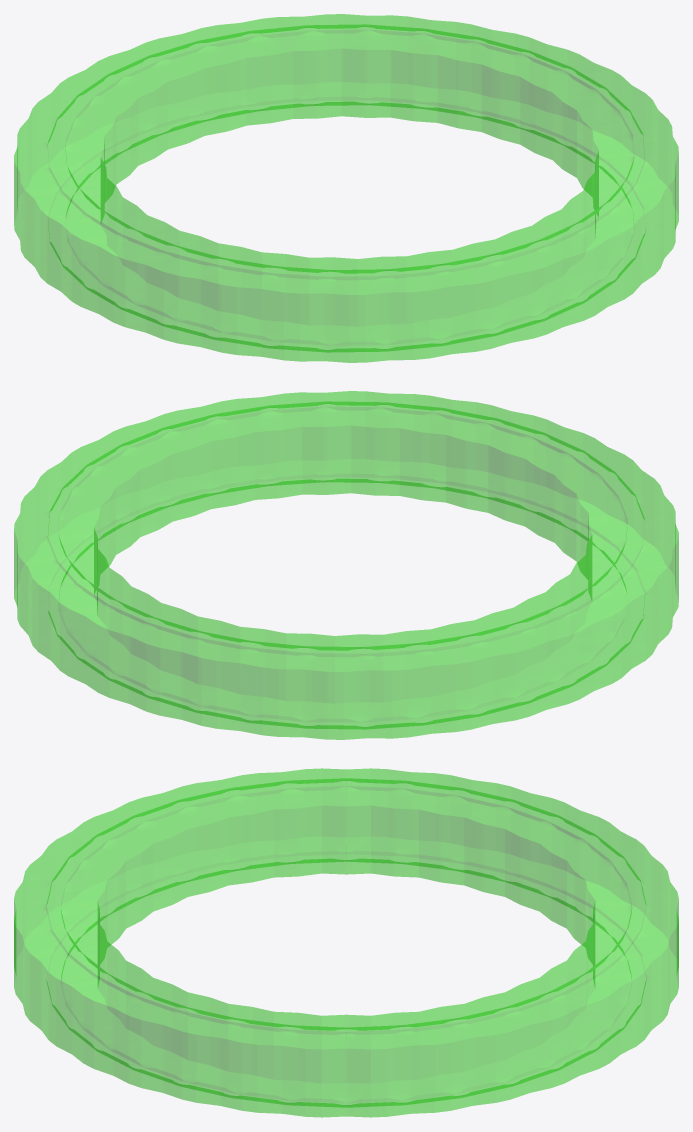
The model's file is Striker2.glb.
3 renders of one model, top to bottom at view 1: azimuth 30°, elevation 25°; view 2: azimuth 150°, elevation 25°; view 3: azimuth 270°, elevation 25°, orthographic.
Visible parts, largest first — view 1: Cylinder; view 2: Cylinder; view 3: Cylinder.
Boxes of the visible parts, bbox=[...] form: Cylinder: bbox=[14, 14, 678, 362]; Cylinder: bbox=[14, 391, 678, 739]; Cylinder: bbox=[14, 768, 678, 1117].
Bounding box in the file's own units: 1.99 × 0.25 × 1.99.
